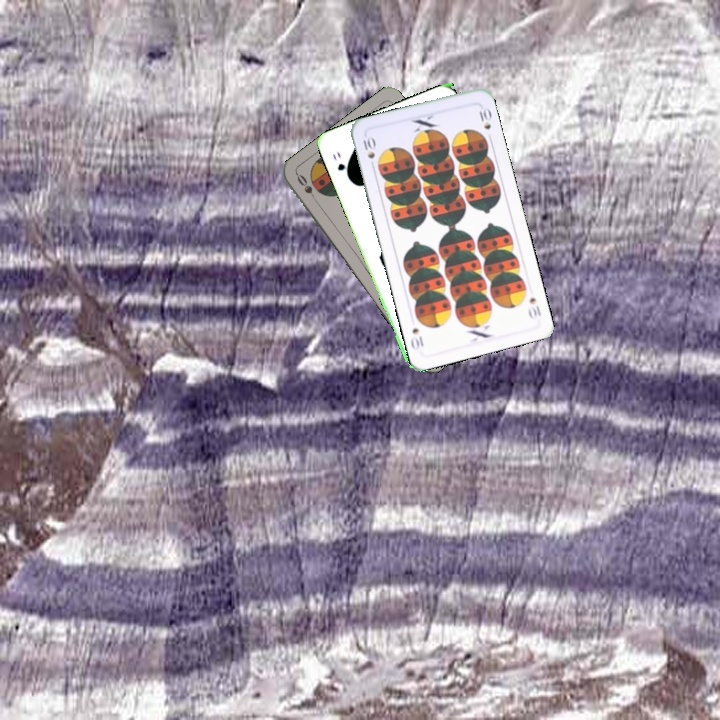GO: (328, 147, 352, 182)
S10: (359, 132, 378, 172), (525, 293, 544, 322)
SO: (293, 170, 321, 206)
